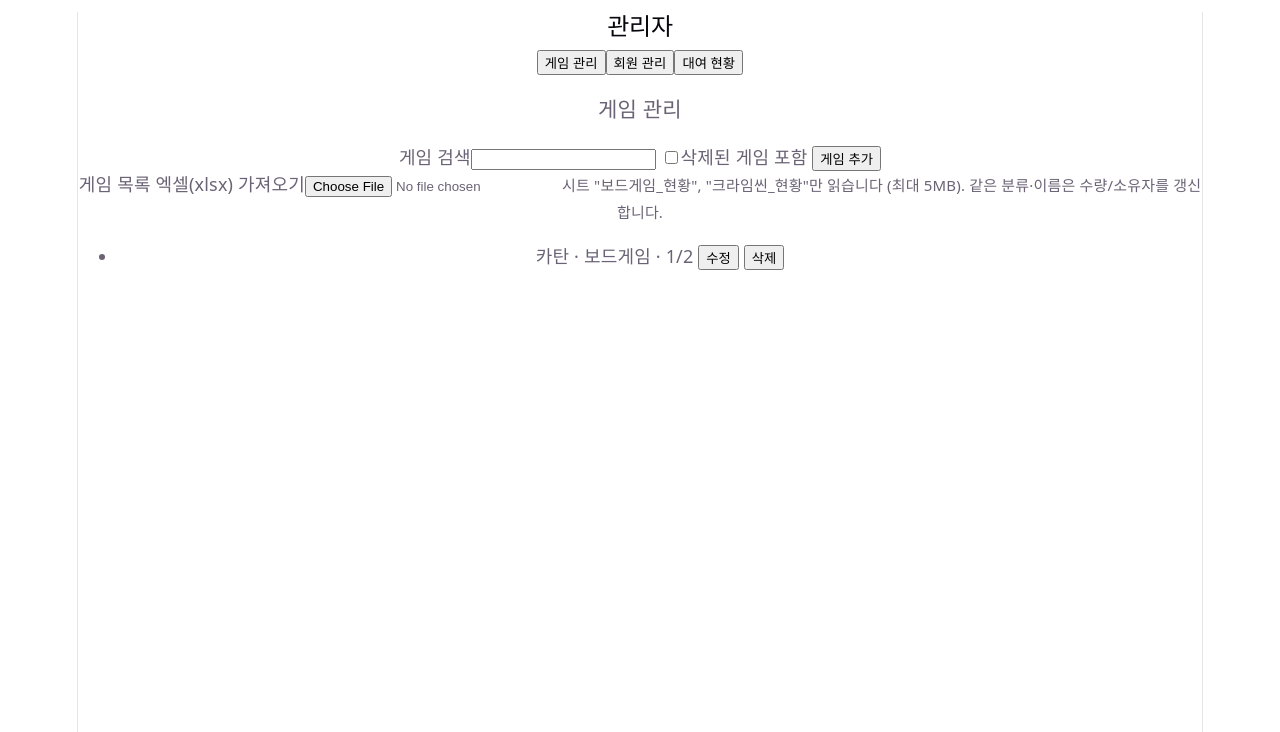
it: AdminPage › 게임 삭제가 거절되면 서버 메시지를 보여준다
The width and height of the screenshot is (1280, 732).
Click the button "삭제".
click(764, 257)  # box [744,245,784,270]
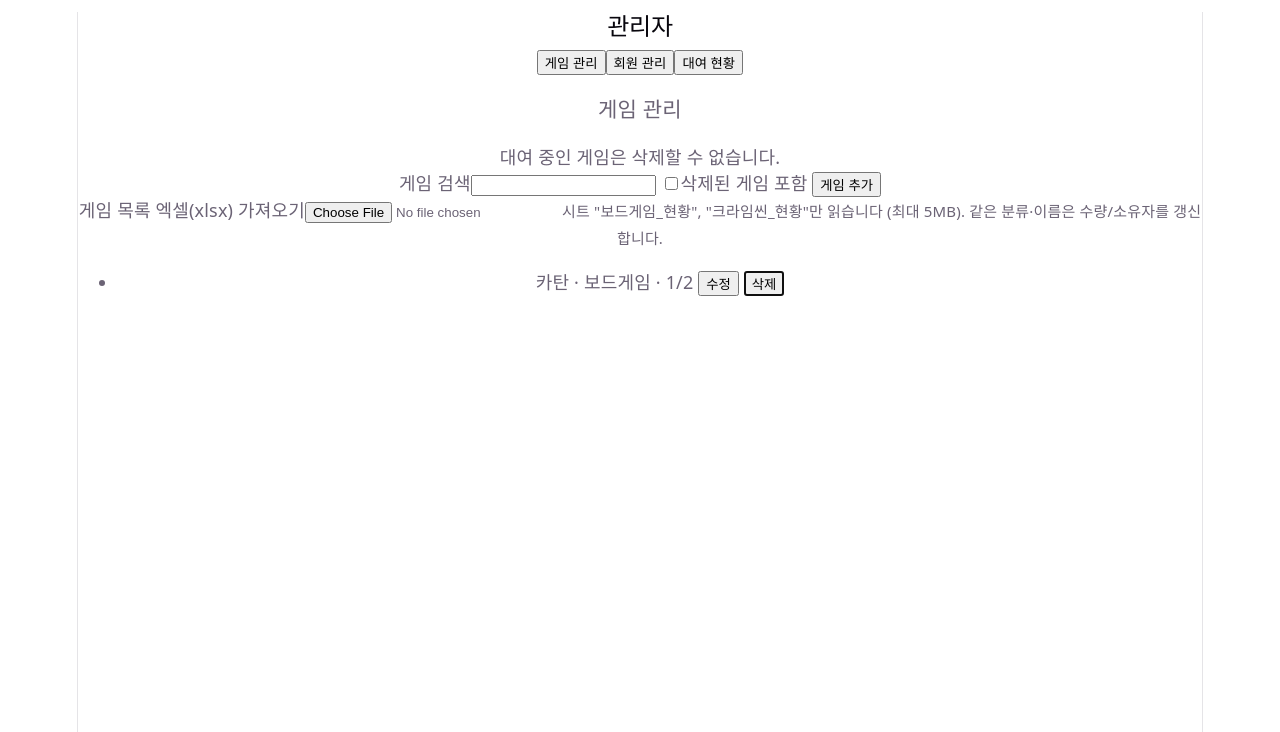
Check: the message reads "대여 중인 게임은 삭제할 수 없습니다.", box [500,144,780,168]
